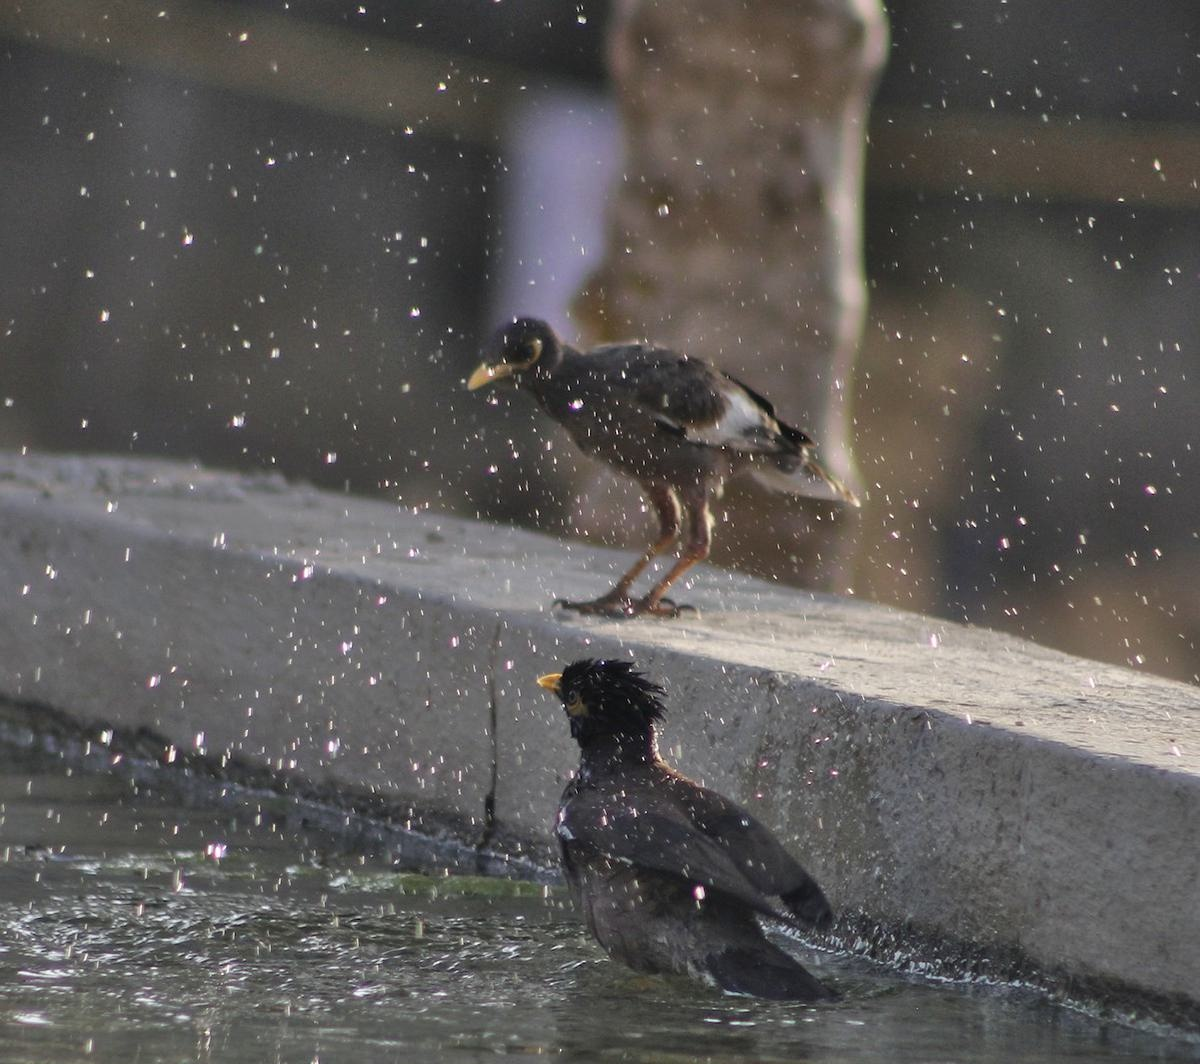myna: (542, 626, 758, 984)
